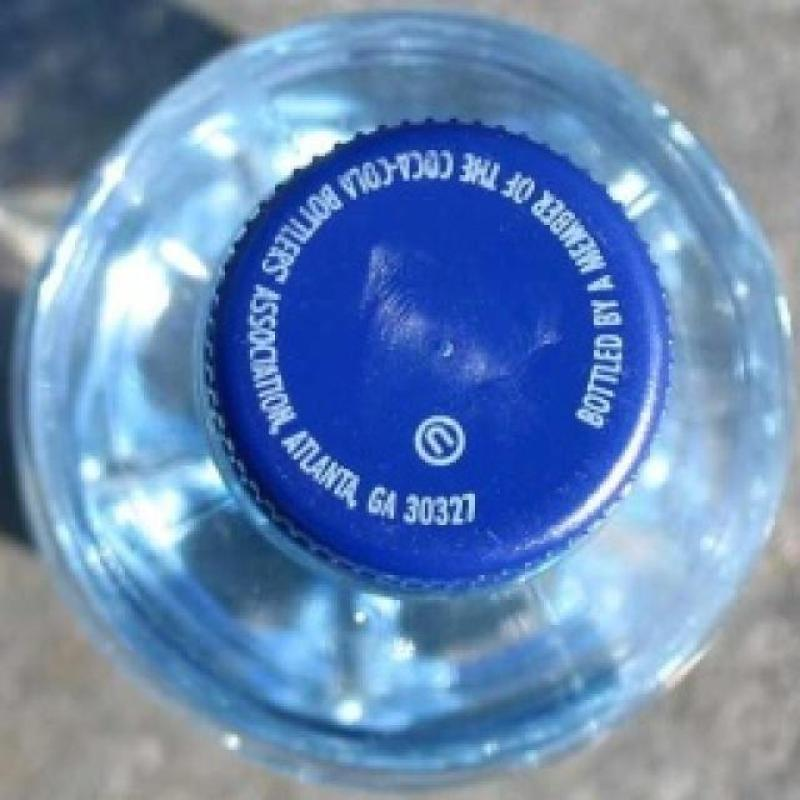botella: (12, 12, 788, 788)
